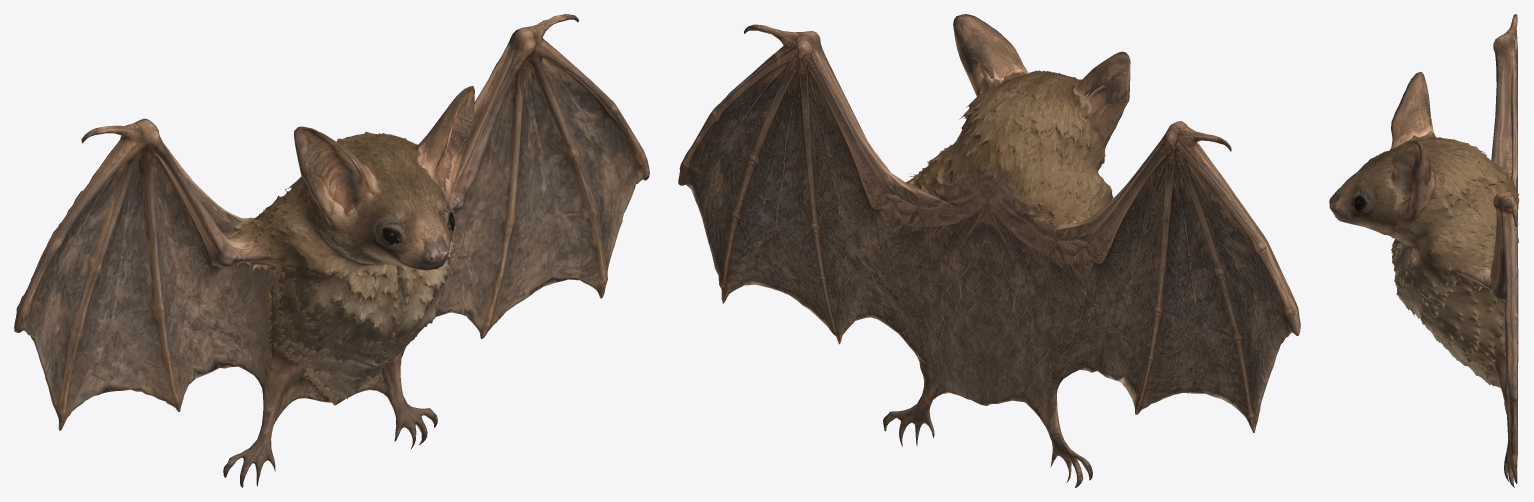
Rendered from bat.glb.
The picture shows the model from 3 angles, left to right: view 1: azimuth 30°, elevation 25°; view 2: azimuth 150°, elevation 25°; view 3: azimuth 270°, elevation 25°; orthographic projection. The views are drawn at different scales.
Visible parts, largest first — view 1: Bat; view 2: Bat; view 3: Bat.
Boxes of the visible parts, box(x1,y1,x2,y2) form: Bat: box(14, 14, 649, 487); Bat: box(678, 14, 1300, 487); Bat: box(1329, 14, 1519, 487).
Bounding box in the file's own units: 1.89 × 1.15 × 0.5756.
2 materials, 2 textured.
